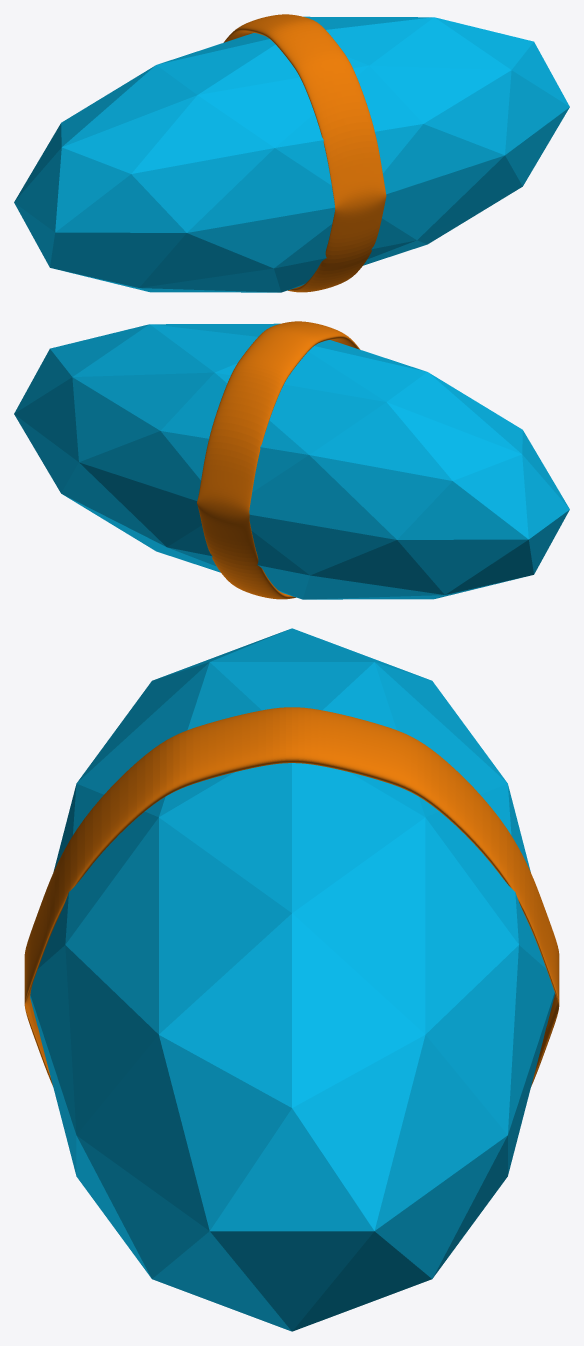
The model's file is manaStone.fbx.
The picture shows the model from 3 angles, top to bottom: view 1: azimuth 30°, elevation 25°; view 2: azimuth 150°, elevation 25°; view 3: azimuth 270°, elevation 25°; orthographic projection. The views are drawn at different scales.
Visible parts, largest first — view 1: Icosphere, Cylinder; view 2: Icosphere, Cylinder; view 3: Icosphere, Cylinder.
Boxes of the visible parts, x1,y1,x2,y2 form: Icosphere: (14, 16, 569, 292); Cylinder: (223, 14, 386, 292); Icosphere: (14, 323, 569, 599); Cylinder: (197, 321, 360, 599); Icosphere: (30, 628, 555, 1331); Cylinder: (24, 707, 559, 1086).
Bounding box in the file's own units: 446 × 213 × 200.
